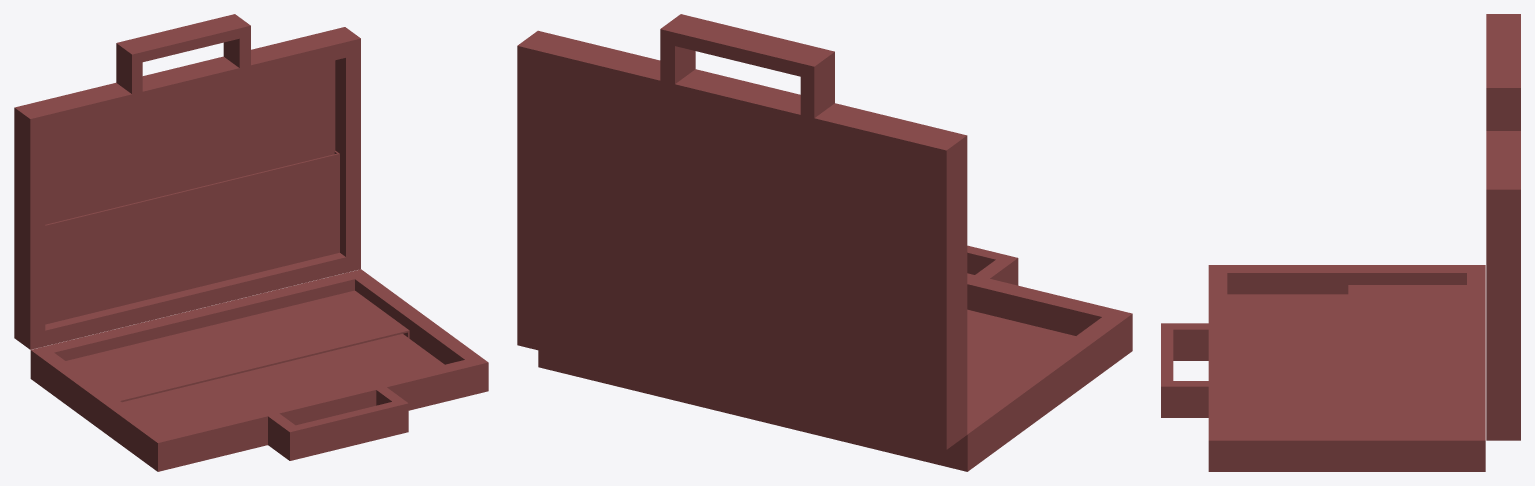
Rendered from Briefcase.fbx.
3 views of the same model, side by side, from view 1: azimuth 30°, elevation 25°; view 2: azimuth 150°, elevation 25°; view 3: azimuth 270°, elevation 25° (orthographic). The views are drawn at different scales.
Visible parts, largest first — view 1: pCube13, pCube12; view 2: pCube13, pCube12; view 3: pCube12, pCube13.
Boxes of the visible parts, x1,y1,x2,y2 form: pCube13: [14, 14, 360, 349]; pCube12: [30, 269, 488, 471]; pCube13: [517, 14, 967, 449]; pCube12: [538, 245, 1132, 471]; pCube12: [1161, 265, 1485, 471]; pCube13: [1486, 14, 1520, 440].
Size of the model in its own units: 60 by 51.87 by 51.96.
